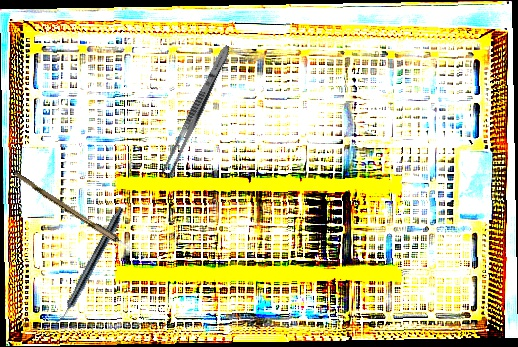Dressing Forceps: (160, 42, 234, 179)
Handpiece: (53, 204, 127, 328)
Surgical Spoon: (11, 171, 158, 267)
